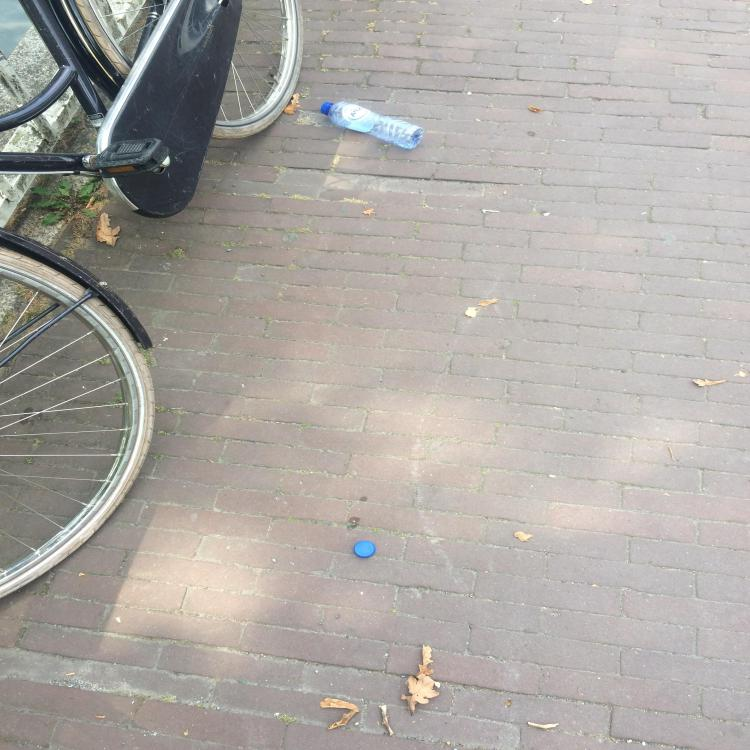Clear plastic bottle: (321, 102, 424, 149)
Plastic bottle cap: (354, 541, 375, 557), (320, 101, 332, 114)
